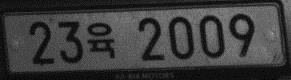0: (197, 14, 226, 58), (168, 16, 196, 60)
2: (136, 15, 166, 62), (28, 20, 56, 66)
3: (55, 18, 84, 63)
9: (227, 12, 256, 58)
육: (85, 20, 118, 60)
